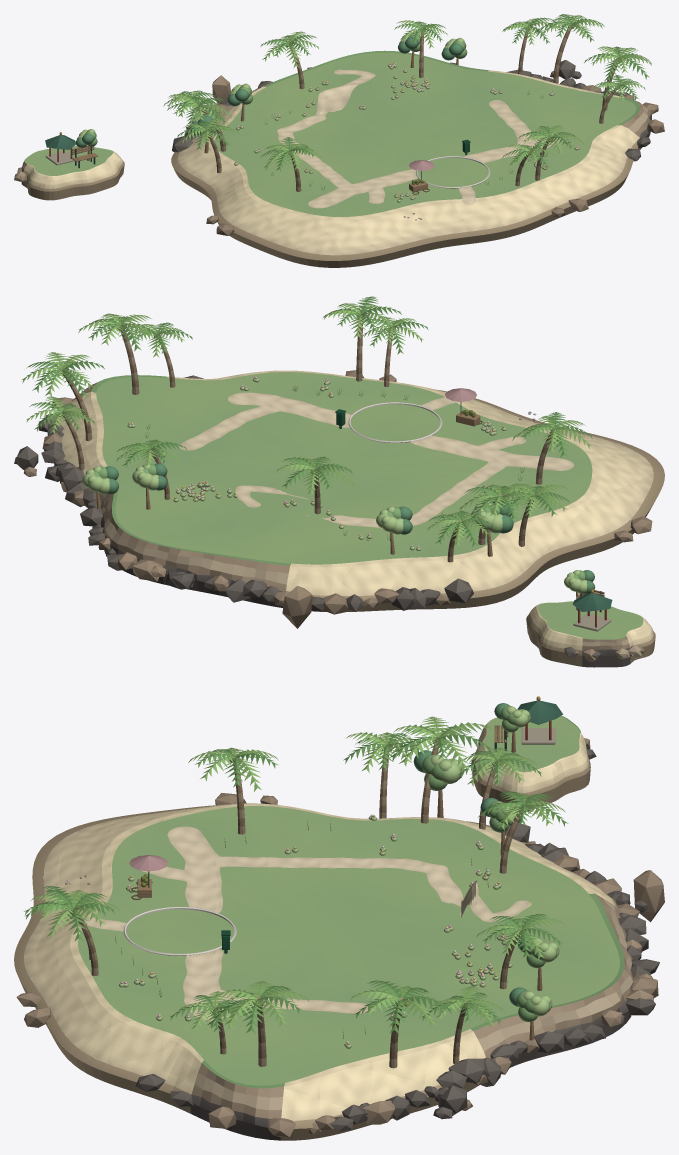
File: terrain.glb
The picture shows the model from 3 angles, top to bottom: view 1: azimuth 30°, elevation 25°; view 2: azimuth 150°, elevation 25°; view 3: azimuth 270°, elevation 25°; orthographic projection. The views are drawn at different scales.
Visible parts, largest first — view 1: terrain_static; view 2: terrain_static; view 3: terrain_static.
Boxes of the visible parts, <box> form: terrain_static: <box>14,14,664,267</box>; terrain_static: <box>14,296,664,667</box>; terrain_static: <box>14,696,664,1140</box>.
Bounding box in the file's own units: 37.31 × 6.06 × 24.89.
Materials: 5 (2 with a texture image).
